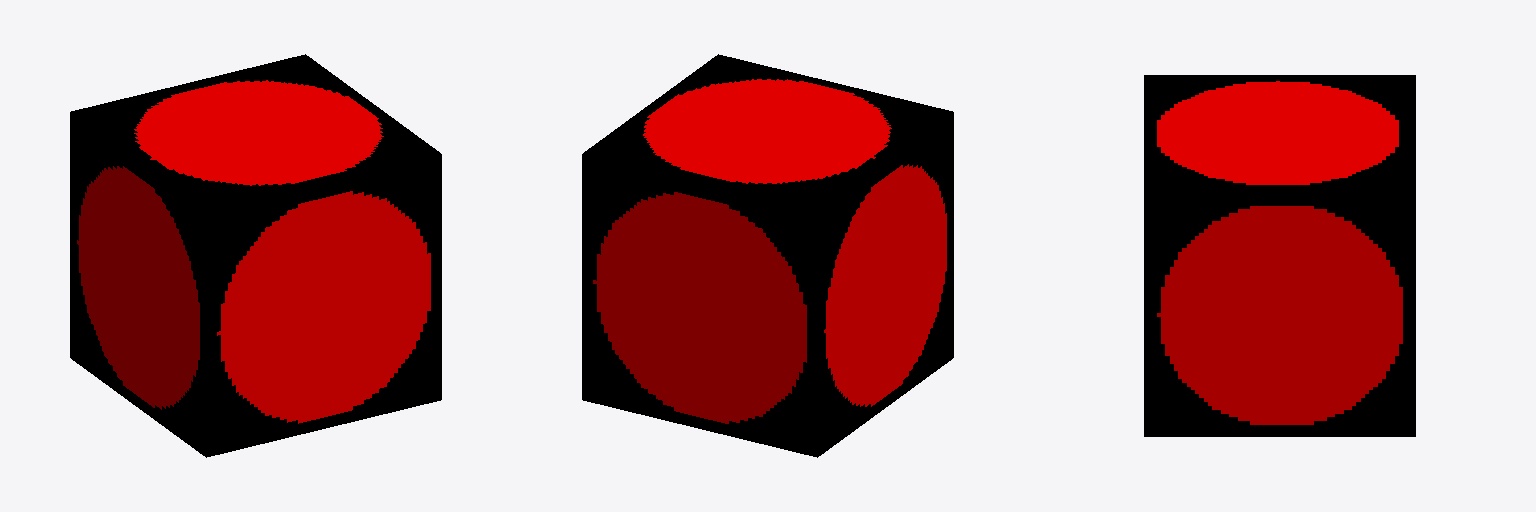
3 views of the same model, side by side, from view 1: azimuth 30°, elevation 25°; view 2: azimuth 150°, elevation 25°; view 3: azimuth 270°, elevation 25° (orthographic).
Visible parts, largest first — view 1: tomato-raw; view 2: tomato-raw; view 3: tomato-raw.
Part boxes in pixels (left/top/right/bottom): tomato-raw: left=70, top=54, right=441, bottom=457; tomato-raw: left=582, top=54, right=953, bottom=457; tomato-raw: left=1144, top=75, right=1415, bottom=436.
Size of the model in its own units: 1 by 1 by 1.
1 materials, 1 textured.